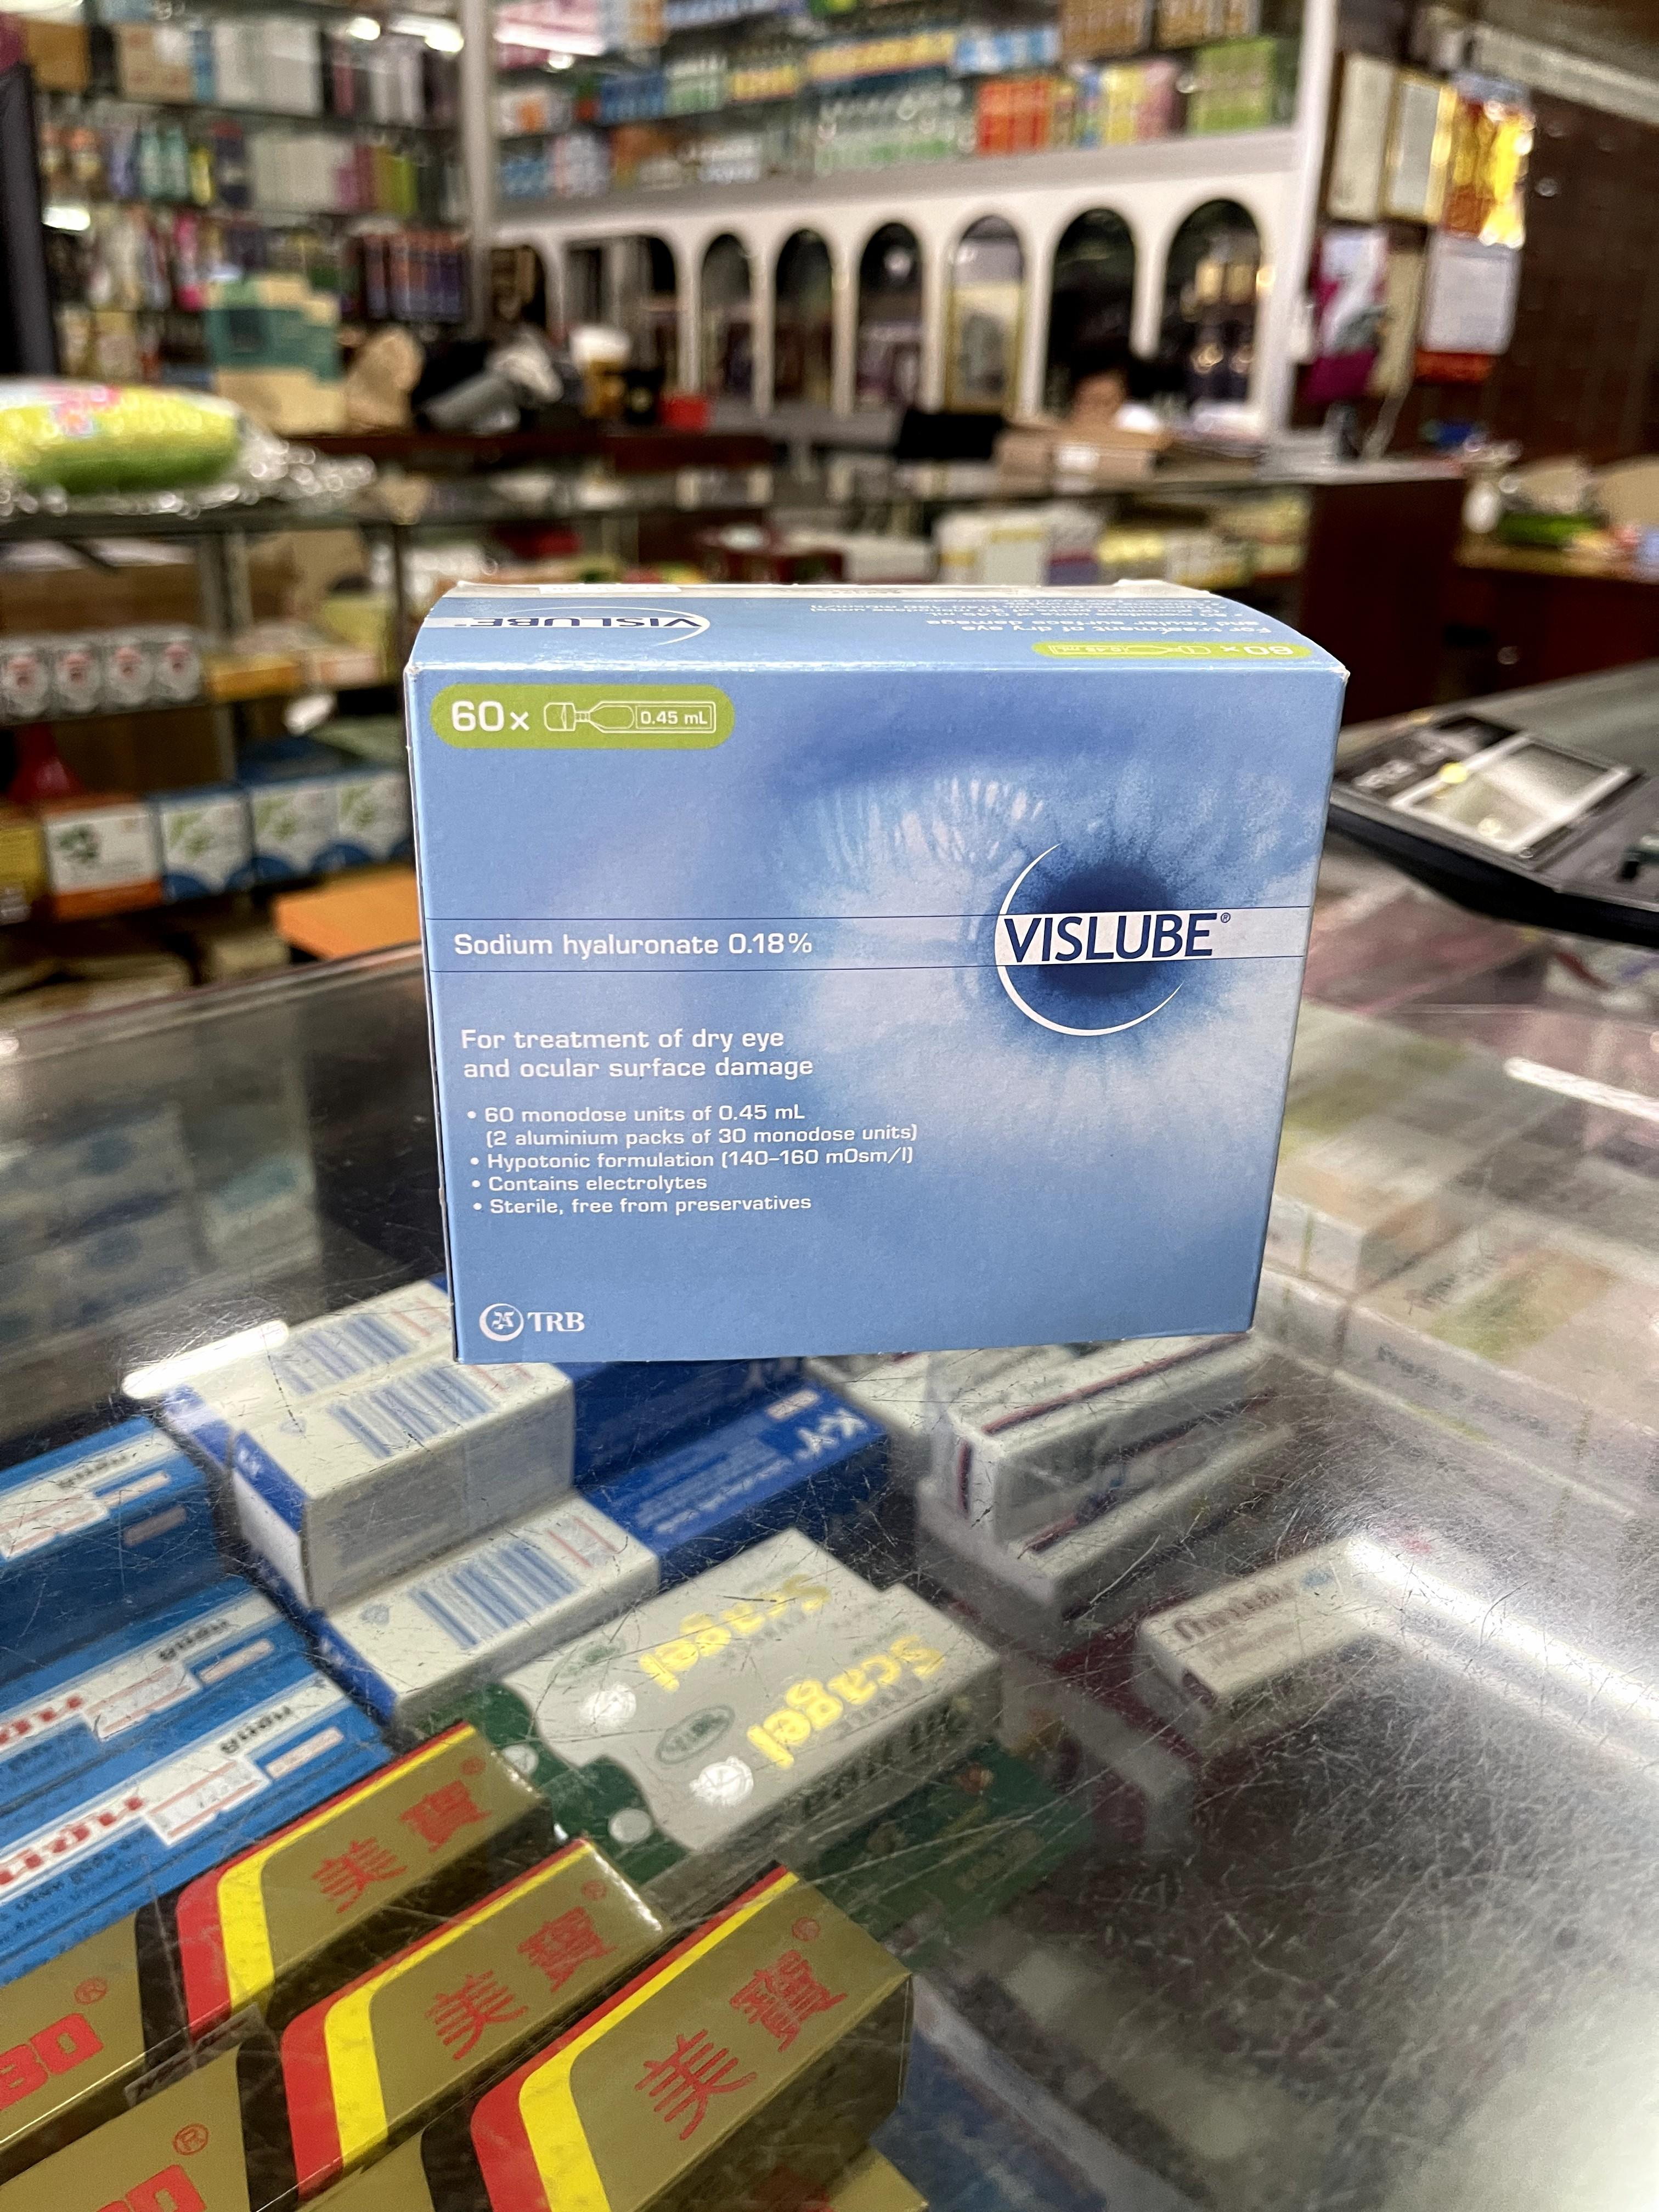Vislube60: (403, 582, 1338, 1360)
